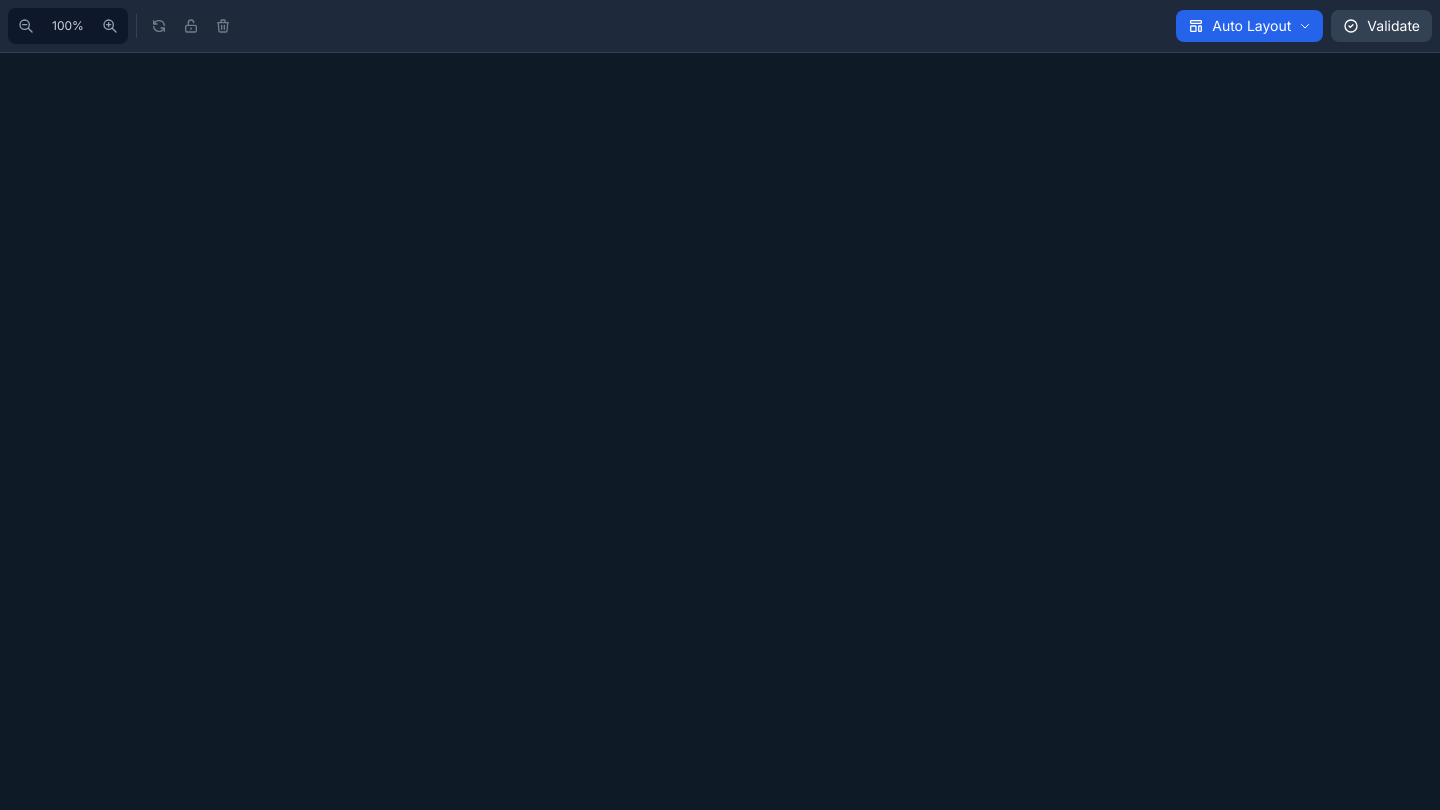
LayoutToolbar › closes dropdown when clicking outside
Click the button "Auto Layout".
click(1250, 26)  # box [1176,10,1323,42]
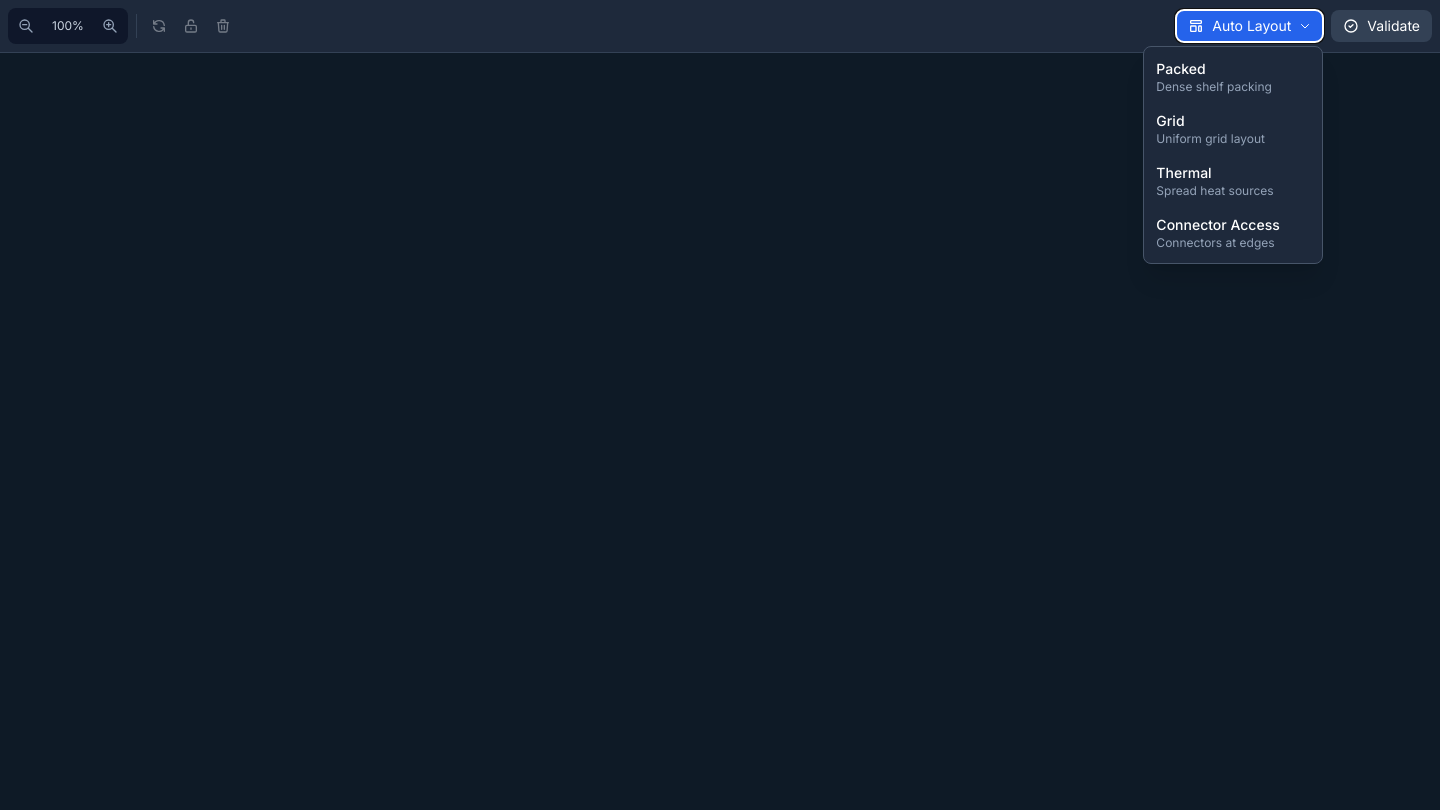
Now the text "Packed" is shown, box [1156,60,1206,77]
Click the element with class "inset-0".
click(720, 405)  # box [0,0,1439,809]
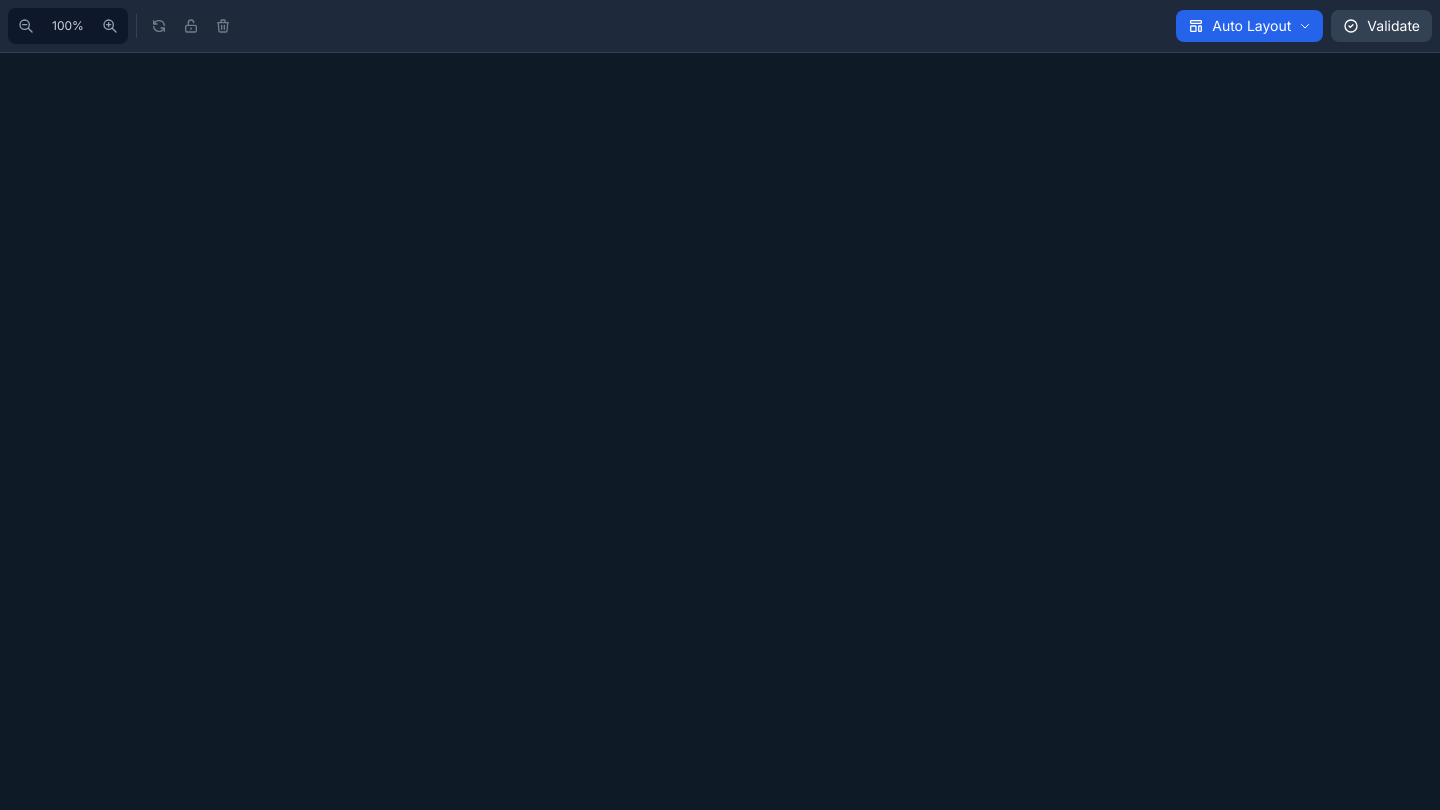
Now the button "Dense shelf packing" is gone
